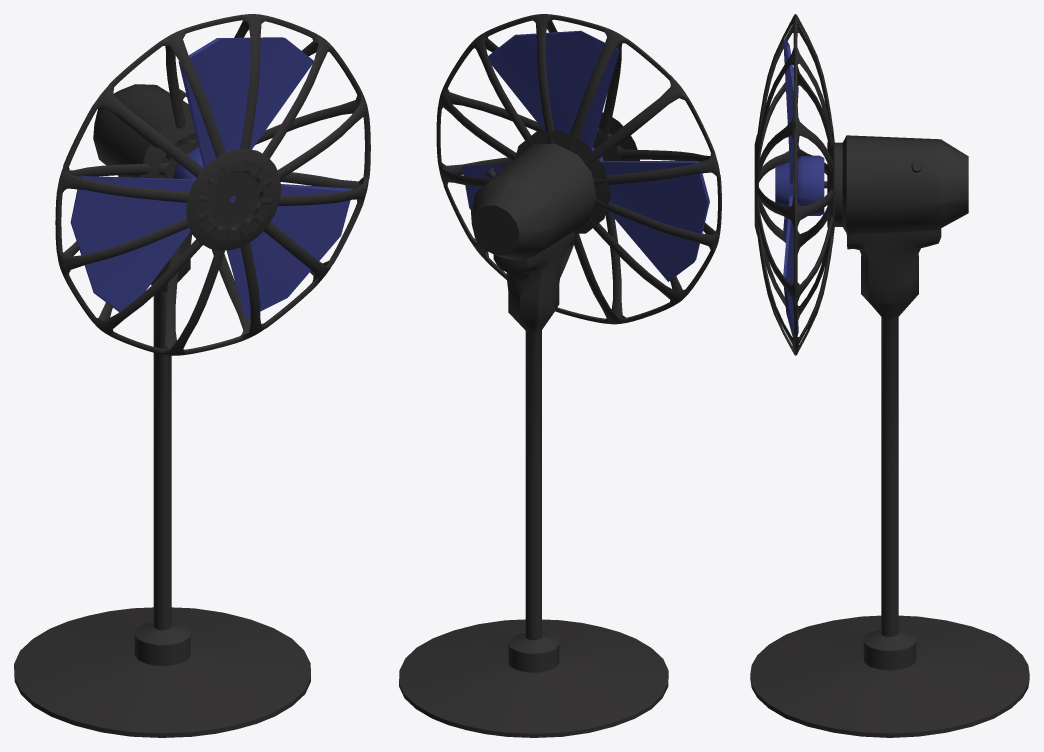
Rendered from fan.fbx.
The picture shows the model from 3 angles, left to right: view 1: azimuth 30°, elevation 25°; view 2: azimuth 150°, elevation 25°; view 3: azimuth 270°, elevation 25°; orthographic projection. The views are drawn at different scales.
Parts seen in each view (by area): view 1: Mesh, Mesh (2); view 2: Mesh, Mesh (2); view 3: Mesh, Mesh (2).
Part boxes in pixels (left/top/right/bottom): Mesh: left=14, top=14, right=370, bottom=737; Mesh (2): left=70, top=37, right=352, bottom=318; Mesh: left=399, top=14, right=721, bottom=737; Mesh (2): left=462, top=30, right=709, bottom=281; Mesh: left=750, top=14, right=1029, bottom=737; Mesh (2): left=775, top=39, right=824, bottom=336.
Bounding box in the file's own units: 71.41 × 151 × 58.61.
